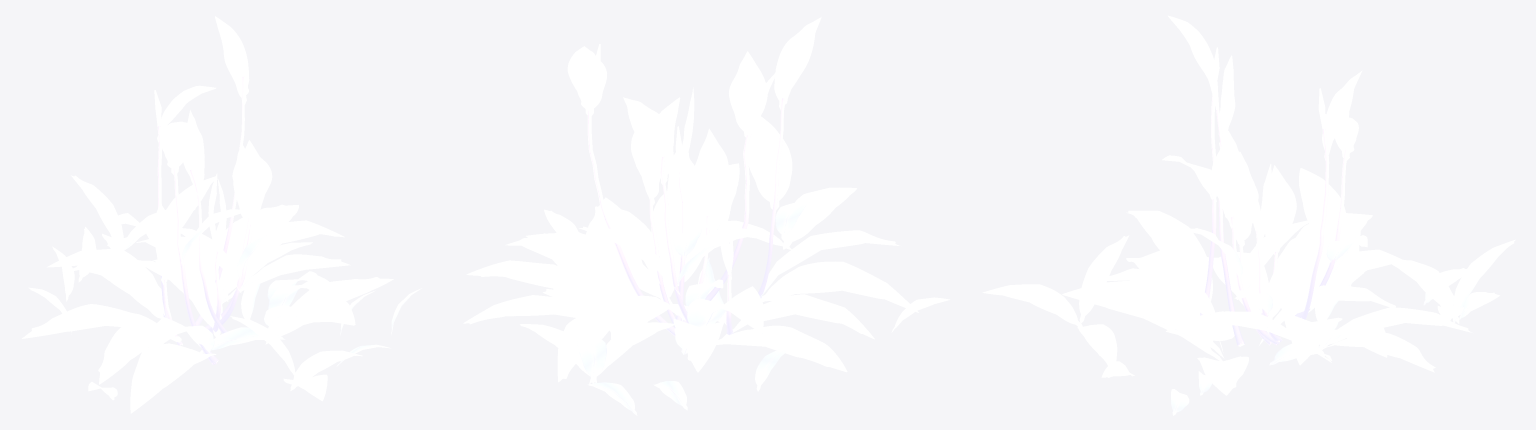
The picture shows the model from 3 angles, left to right: view 1: azimuth 30°, elevation 25°; view 2: azimuth 150°, elevation 25°; view 3: azimuth 270°, elevation 25°; orthographic projection. The views are drawn at different scales.
Visible parts, largest first — view 1: SM_PeaceLily_03_LOD0; view 2: SM_PeaceLily_03_LOD0; view 3: SM_PeaceLily_03_LOD0.
Part boxes in pixels (bbox=[...]): SM_PeaceLily_03_LOD0: bbox=[22, 16, 421, 413]; SM_PeaceLily_03_LOD0: bbox=[463, 17, 949, 415]; SM_PeaceLily_03_LOD0: bbox=[982, 15, 1515, 415].
Size of the model in its own units: 1.07 by 0.8126 by 1.32.
Materials: 1 (1 with a texture image).
